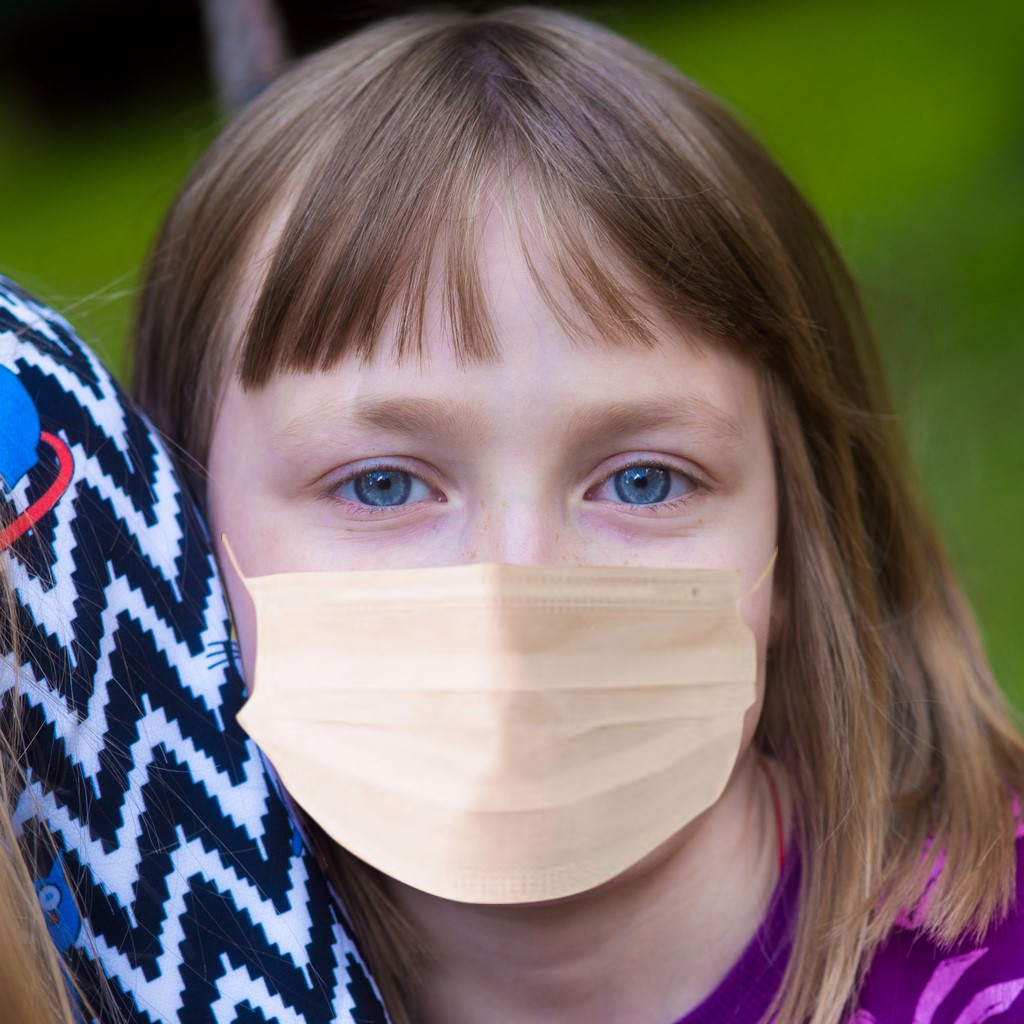con_mascara: (187, 144, 799, 907)
